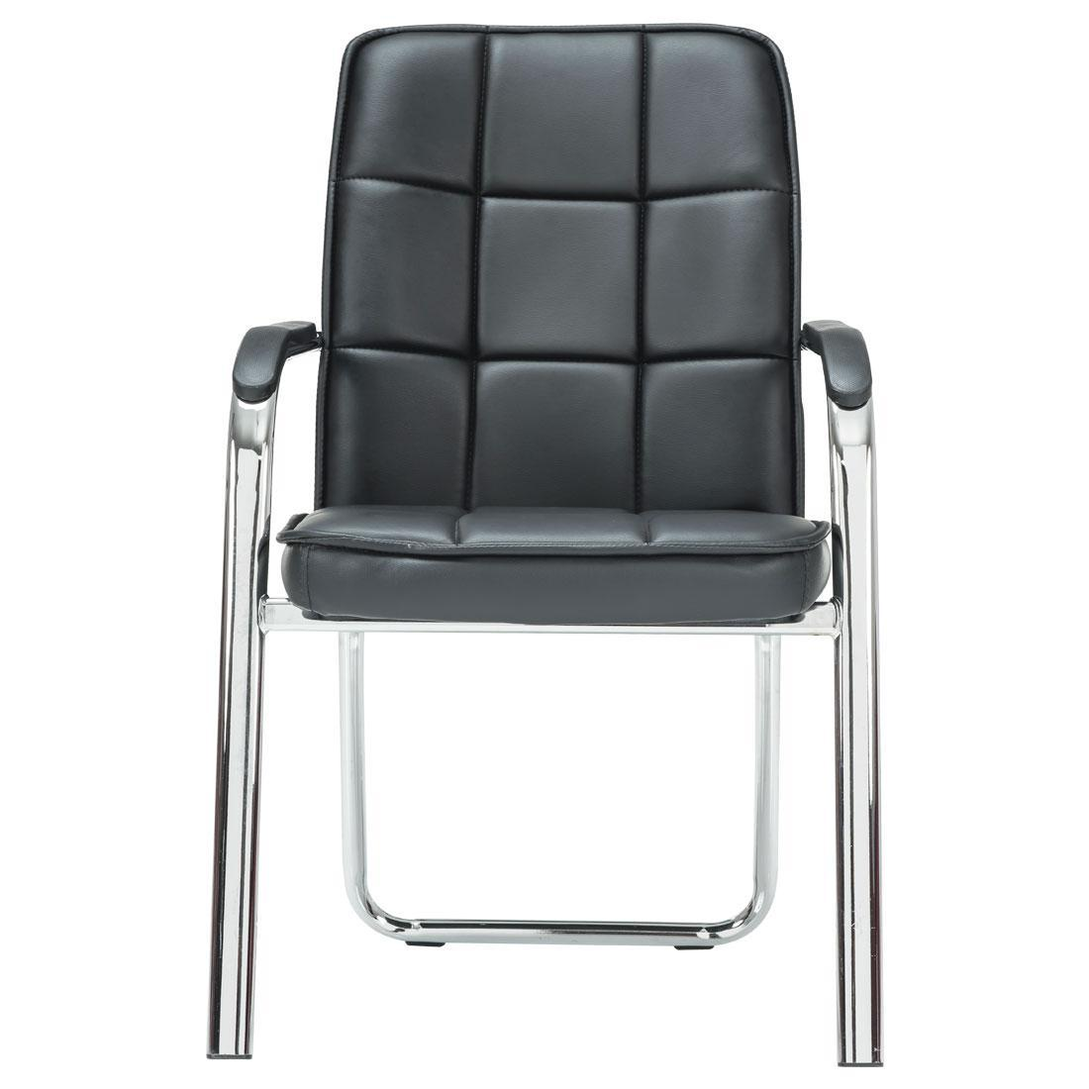chair: (210, 12, 891, 1076)
